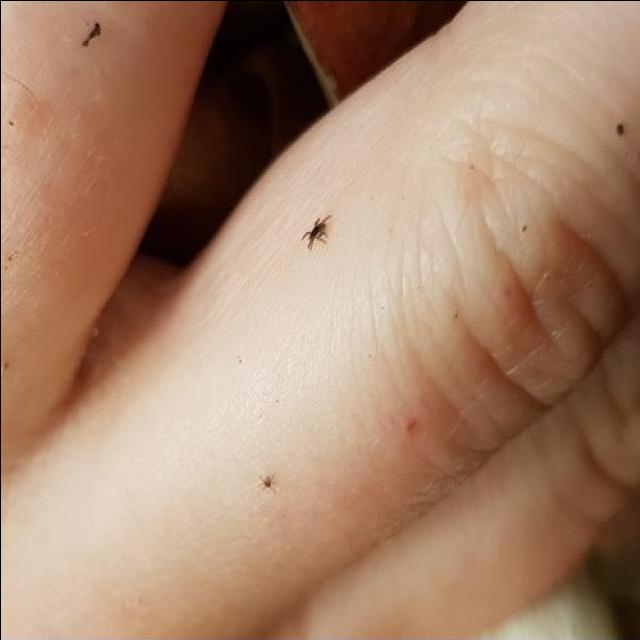Ixodes Ricinus-F: (298, 212, 340, 256)
